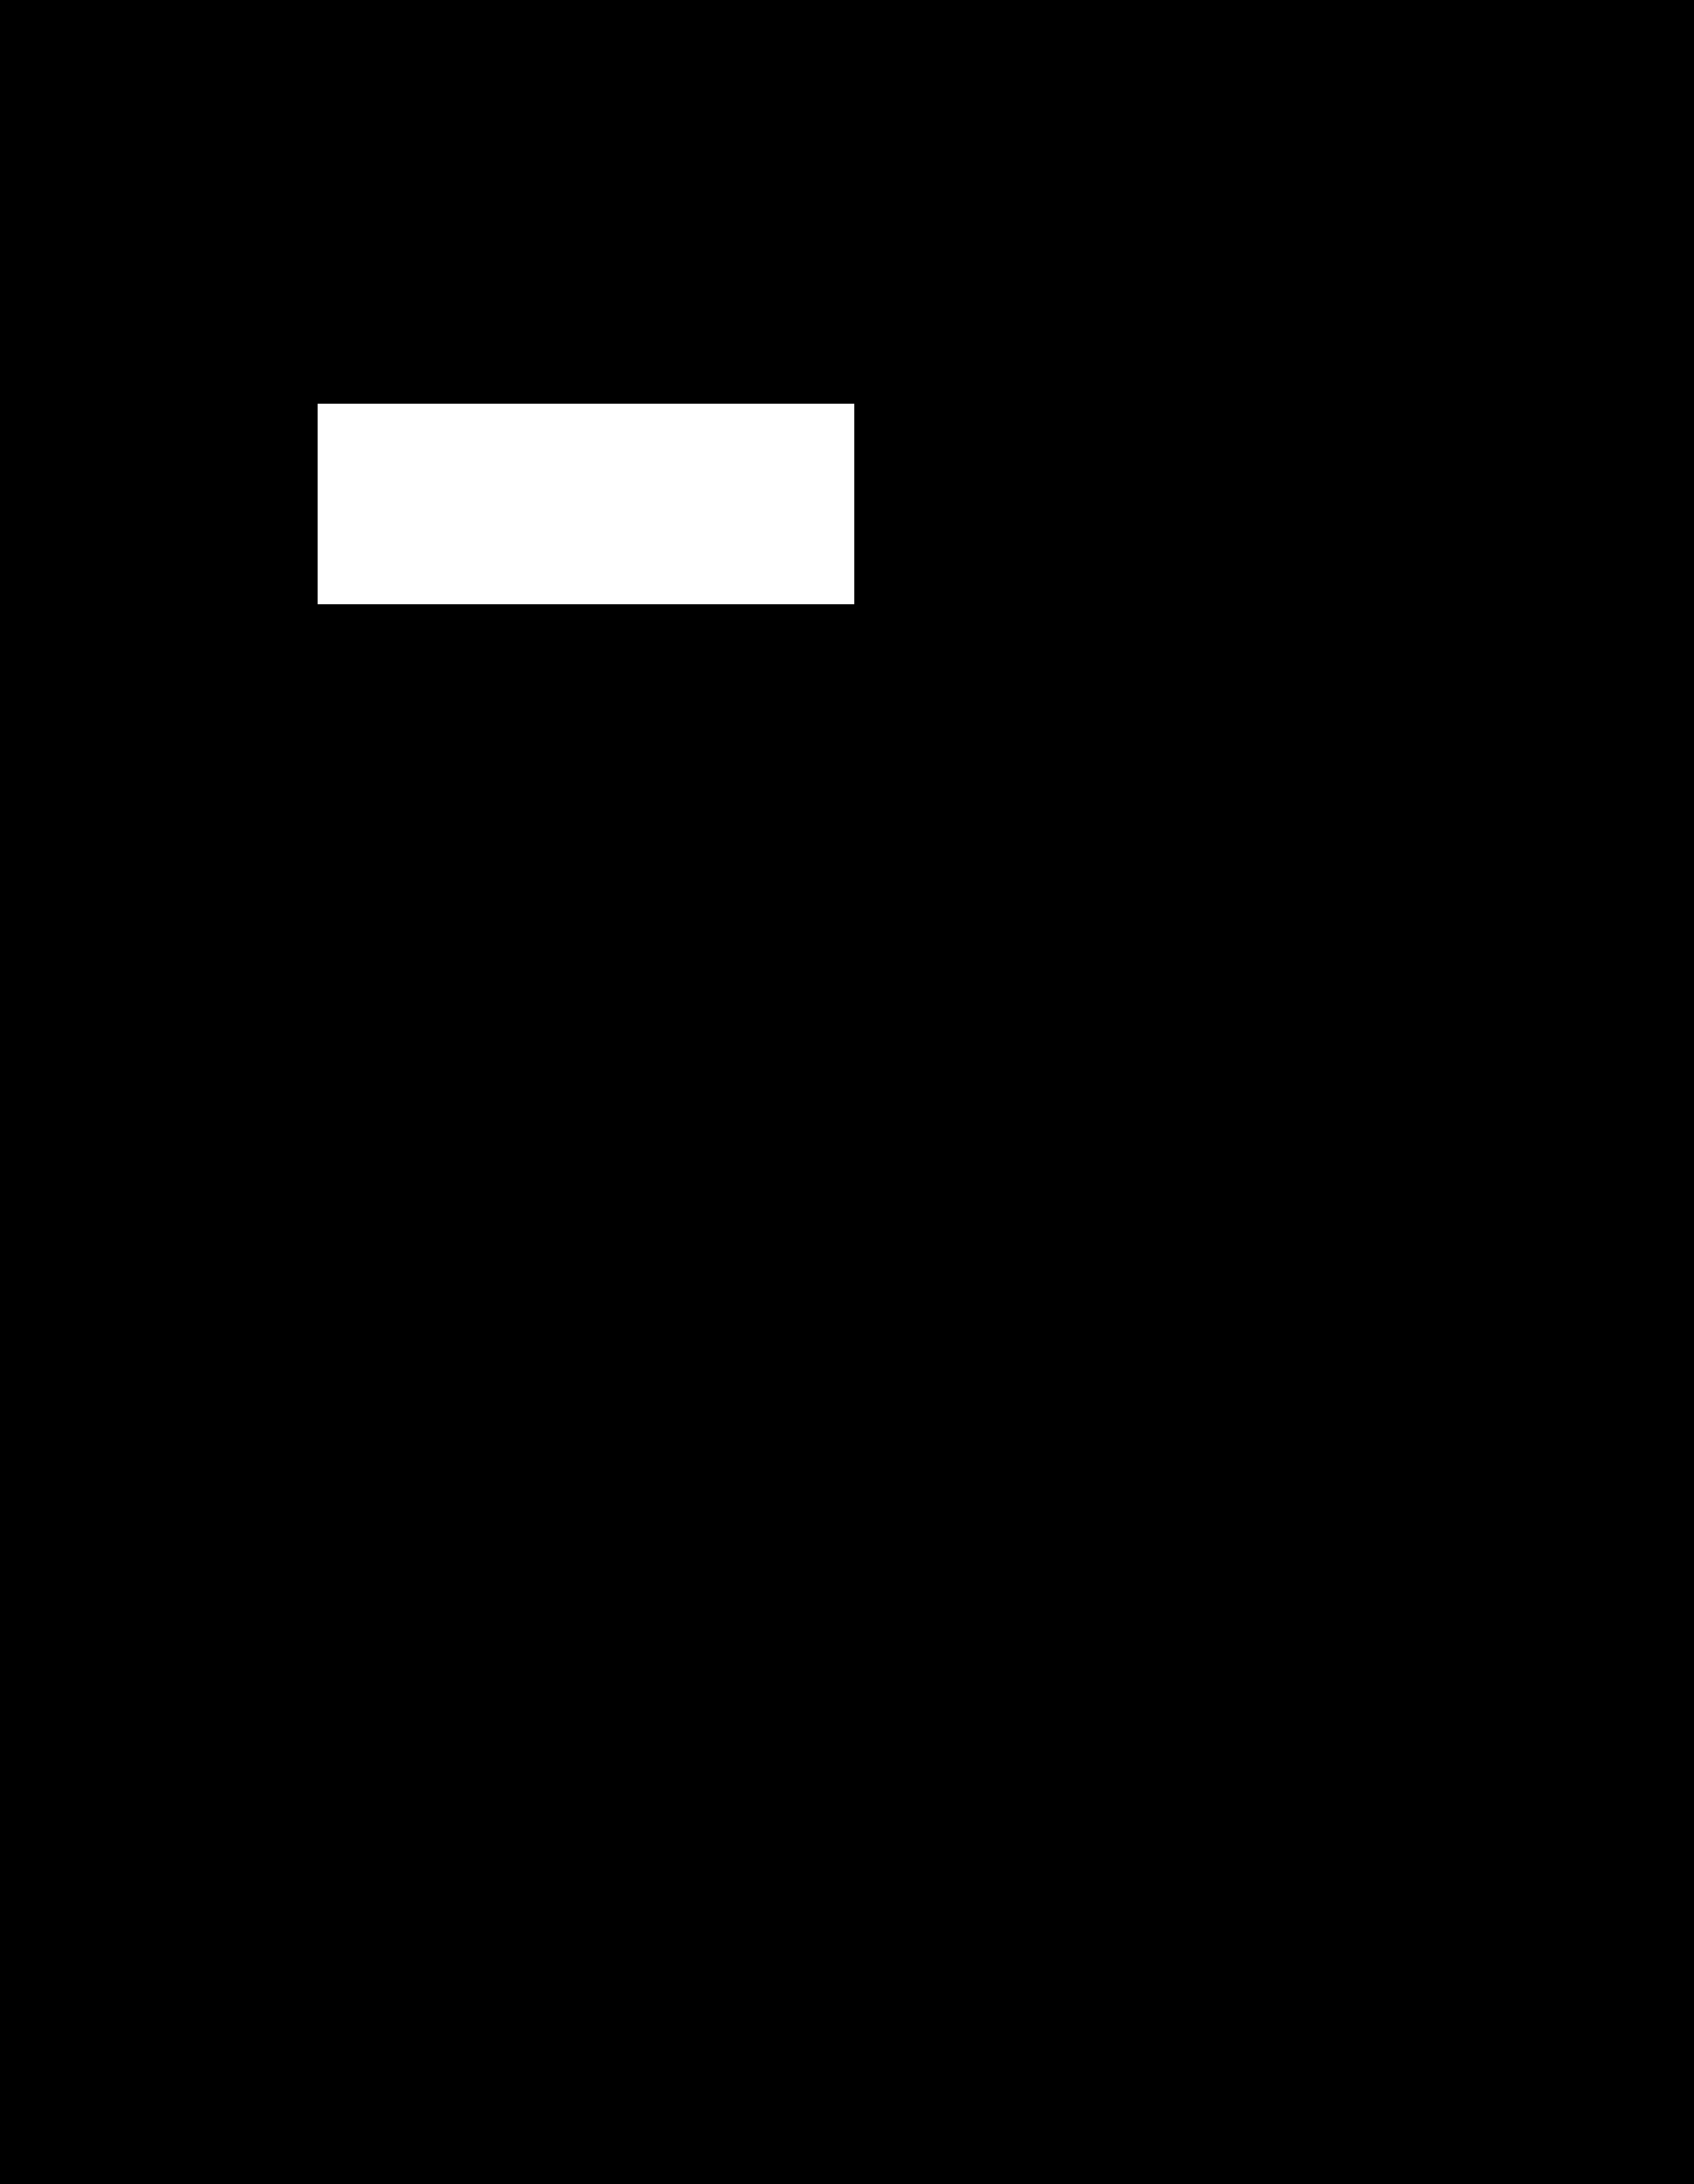table: (317, 404, 854, 603)
